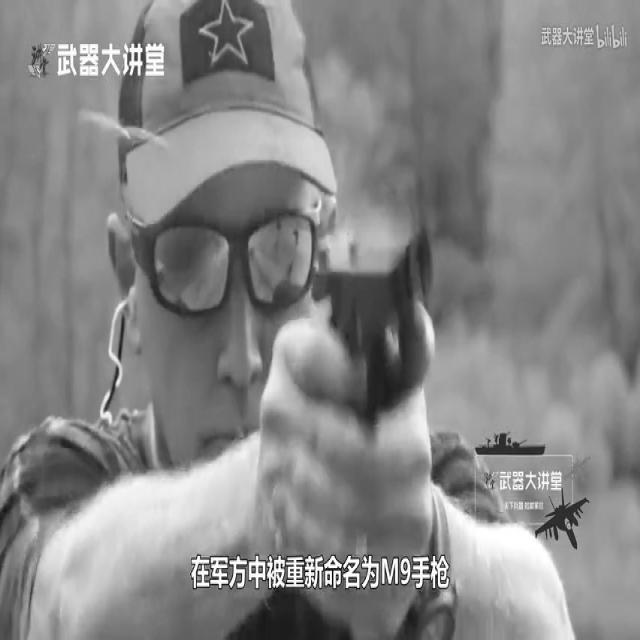Hand-Gun: (292, 196, 439, 464)
